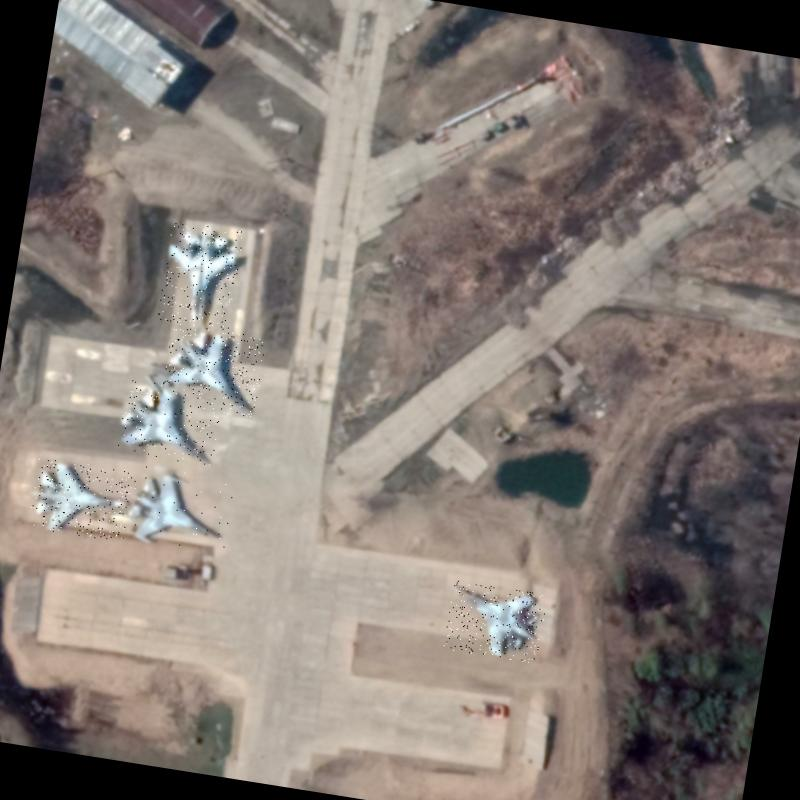A1: (159, 322, 266, 419), (123, 465, 235, 556), (156, 220, 244, 330), (116, 378, 222, 466), (28, 456, 134, 542), (442, 580, 548, 664)
